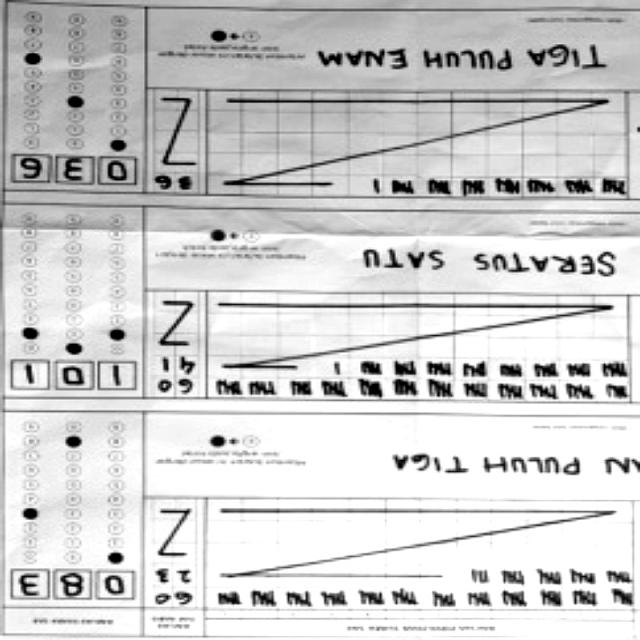Suara: (7, 566, 139, 606), (10, 355, 142, 395), (10, 153, 142, 193)
